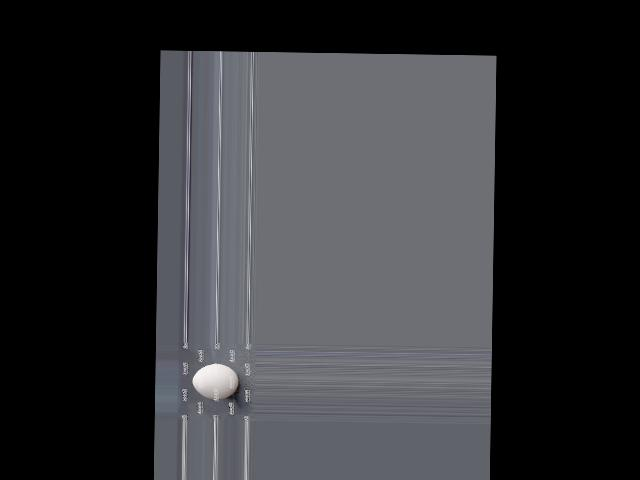egg: (192, 364, 239, 399)
